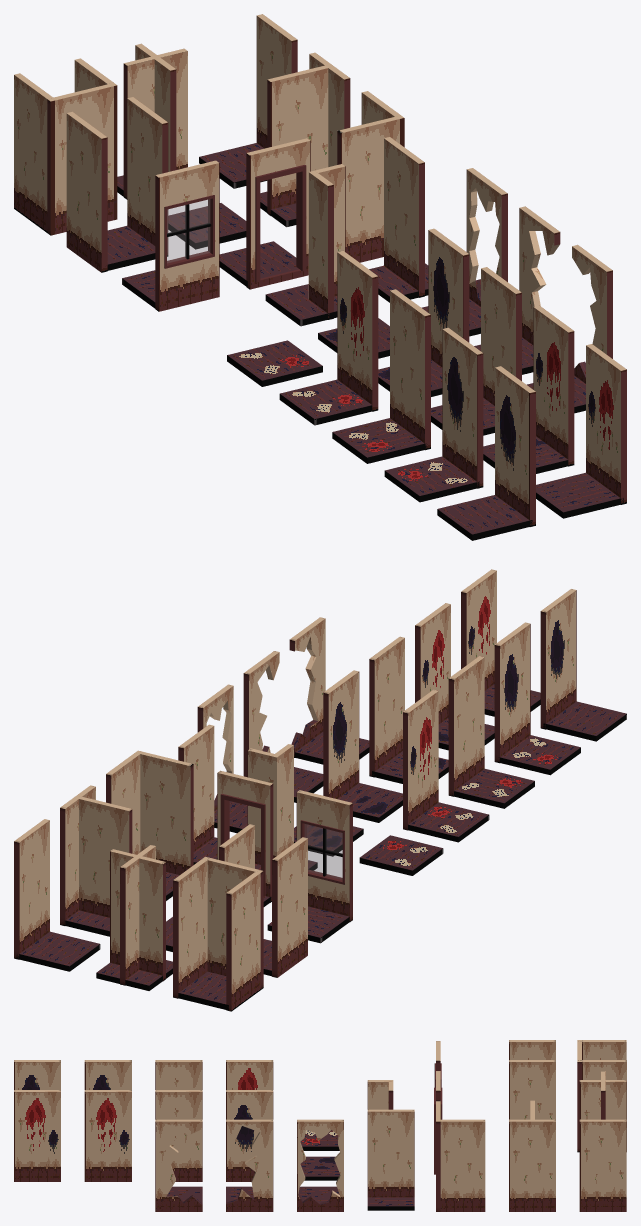
File: MotelTileset.glb
The picture shows the model from 3 angles, top to bottom: view 1: azimuth 30°, elevation 25°; view 2: azimuth 150°, elevation 25°; view 3: azimuth 270°, elevation 25°; orthographic projection. The views are drawn at different scales.
Parts seen in each view (by area): view 1: Small Hall, Small Hall End.001, Window, T Junction, Blood Wall 3, Hole Wall 2, Wall 3, Hole Wall 1, Blood Wall 1, Door Outer, Corner.001, Inner Wall (+12 smaller); view 2: Small Hall End.001, Four Way, Corner.001, T Junction, Window, Hole Wall 2, Wall 3, Hole Wall 1, Blood Wall 3, Wall 1, Small Hall, Hole Wall 3 (+11 smaller); view 3: Inner Wall, Corner.001, T Junction, Wall 1, Blood Wall 2, Blood Wall 1, Small Hall, Big Hole 2, Big Hole 1, Wall 2, Hole Wall 3, Small Hole (+10 smaller).
Boxes of the visible parts, bbox=[...] form: Small Hall: bbox=[66, 97, 168, 272]; Small Hall End.001: bbox=[14, 58, 117, 235]; Window: bbox=[122, 160, 219, 311]; T Junction: bbox=[260, 52, 350, 227]; Blood Wall 3: bbox=[279, 250, 378, 425]; Hole Wall 2: bbox=[384, 327, 483, 502]; Wall 3: bbox=[332, 289, 430, 463]; Hole Wall 1: bbox=[437, 366, 535, 540]; Blood Wall 1: bbox=[536, 344, 626, 518]; Door Outer: bbox=[219, 138, 310, 289]; Corner.001: bbox=[337, 91, 404, 262]; Inner Wall: bbox=[369, 137, 428, 302]; Small Hall End.001: bbox=[173, 856, 263, 1011]; Four Way: bbox=[96, 845, 172, 990]; Corner.001: bbox=[106, 750, 193, 900]; T Junction: bbox=[60, 785, 132, 936]; Window: bbox=[267, 790, 352, 943]; Hole Wall 2: bbox=[494, 622, 580, 775]; Wall 3: bbox=[448, 656, 534, 808]; Hole Wall 1: bbox=[540, 589, 626, 741]; Blood Wall 3: bbox=[403, 689, 489, 842]; Wall 1: bbox=[14, 819, 100, 971]; Small Hall: bbox=[219, 824, 307, 977]; Hole Wall 3: bbox=[323, 670, 402, 822]; Inner Wall: bbox=[367, 1109, 414, 1210]; Corner.001: bbox=[436, 1100, 485, 1211]; T Junction: bbox=[509, 1100, 555, 1211]; Wall 1: bbox=[579, 1119, 626, 1211]; Blood Wall 2: bbox=[84, 1090, 131, 1181]; Blood Wall 1: bbox=[14, 1090, 60, 1181]; Small Hall: bbox=[509, 1040, 555, 1119]; Big Hole 2: bbox=[226, 1119, 273, 1211]; Big Hole 1: bbox=[155, 1119, 202, 1211]; Wall 2: bbox=[155, 1090, 202, 1181]; Hole Wall 3: bbox=[226, 1090, 273, 1181]; Small Hole: bbox=[297, 1119, 343, 1211].
Size of the model in its own units: 8.2 by 4.22 by 26.01.
Materials: 28 (27 with a texture image).
